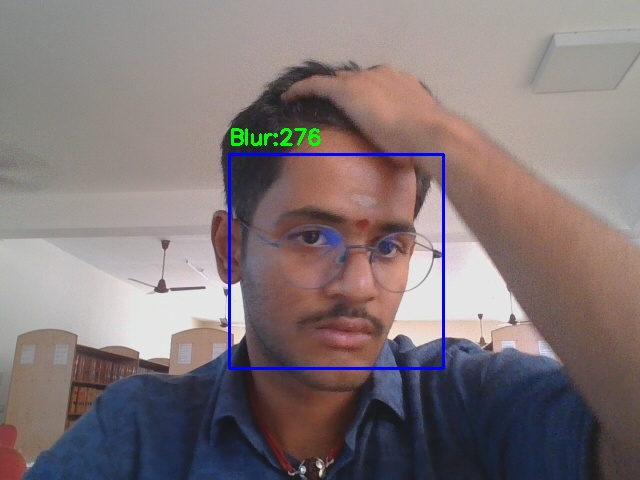real: (229, 154, 443, 368)
